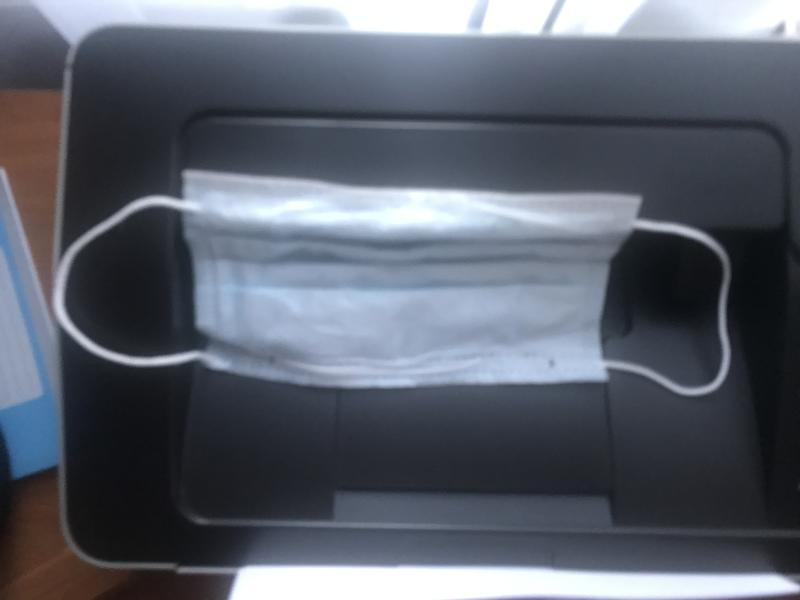medical_mask: (51, 169, 731, 397)
